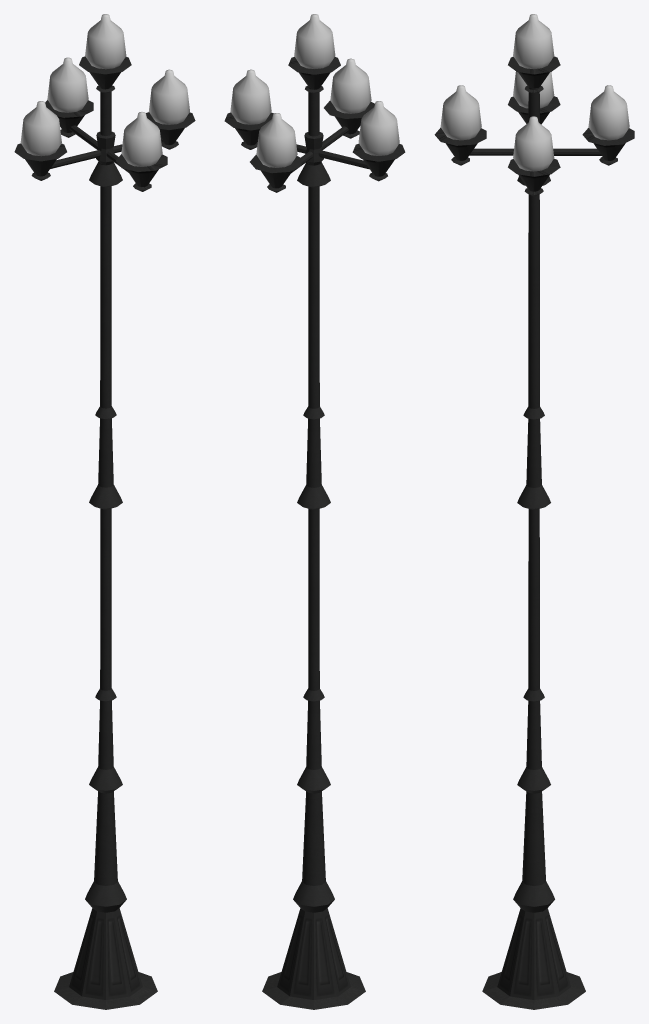
File: D_lamppost_5x_park_long.FBX
The picture shows the model from 3 angles, left to right: view 1: azimuth 30°, elevation 25°; view 2: azimuth 150°, elevation 25°; view 3: azimuth 270°, elevation 25°; orthographic projection.
Visible parts, largest first — view 1: Object167; view 2: Object167; view 3: Object167.
Boxes of the visible parts, box(x1,y1,x2,y2) form: Object167: box(14, 14, 195, 1009); Object167: box(224, 14, 405, 1009); Object167: box(434, 14, 634, 1009).
Bounding box in the file's own units: 3.53 × 3.53 × 18.95.
